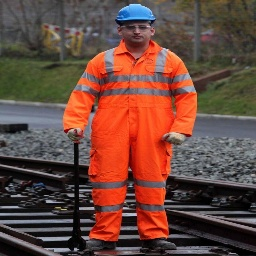helmet: (111, 3, 162, 28)
person: (62, 2, 201, 250)
vest: (86, 46, 194, 163)
